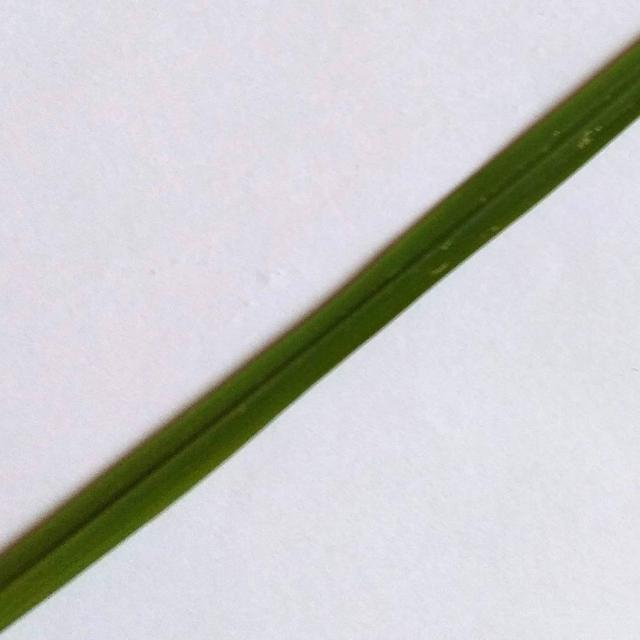healthy: (0, 6, 640, 640)
